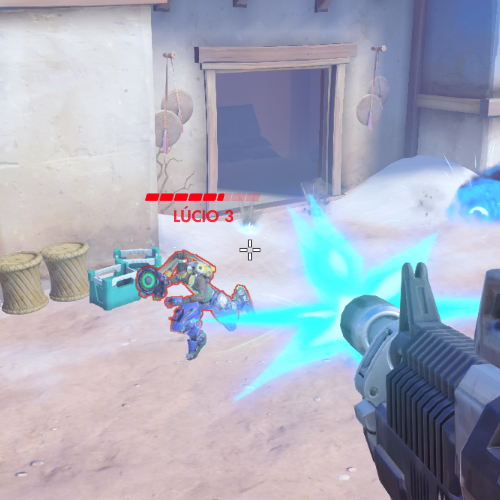hpbar: (144, 192, 262, 202)
